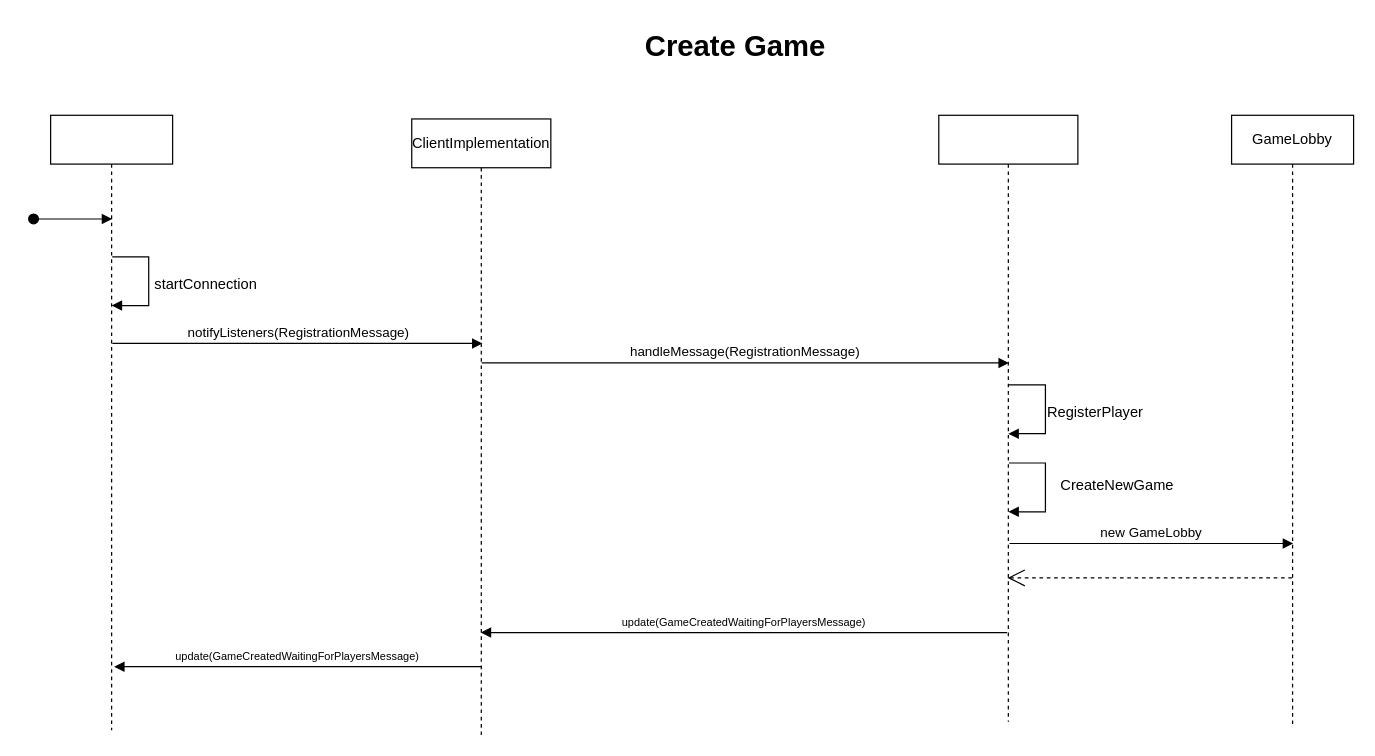
Image size: 1375x756. Some labels were removed from this diagram. The shapes that lost their labels are listed below. From the top down, each one's box as (x1, y1, x2, y2) in pixels, then its label:
(49, 114, 173, 730): View
(938, 114, 1078, 722): ServerImplementation
